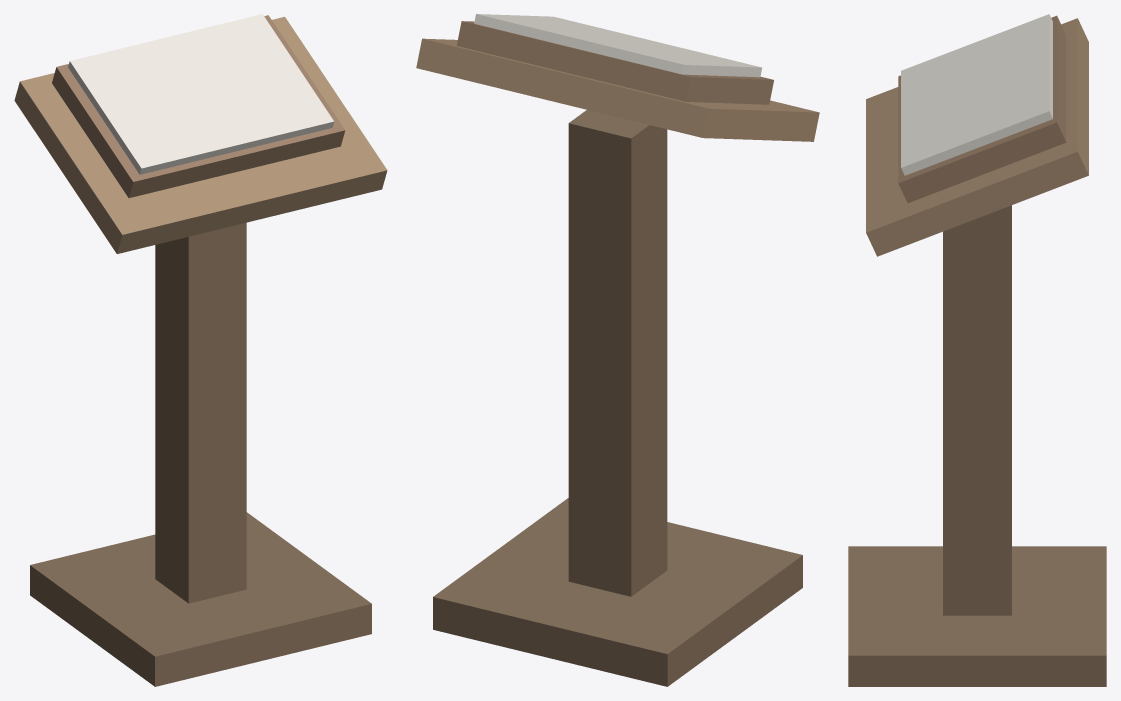
File: lore.glb
The picture shows the model from 3 angles, left to right: view 1: azimuth 30°, elevation 25°; view 2: azimuth 150°, elevation 25°; view 3: azimuth 270°, elevation 25°; orthographic projection. The views are drawn at different scales.
Visible parts, largest first — view 1: lore; view 2: lore; view 3: lore.
Boxes of the visible parts, left/top/right/bottom form: lore: left=14, top=14, right=387, bottom=686; lore: left=416, top=14, right=819, bottom=686; lore: left=848, top=14, right=1106, bottom=686.
Bounding box in the file's own units: 0.55 × 1.09 × 0.45.
